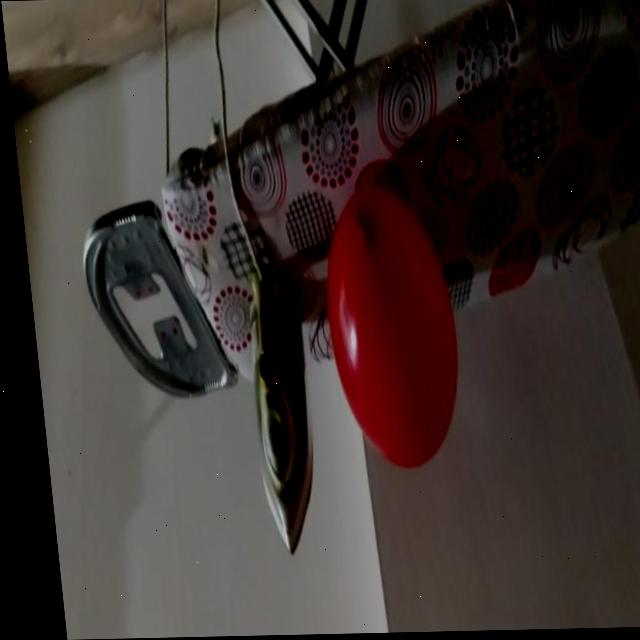balloon: (305, 174, 466, 502)
